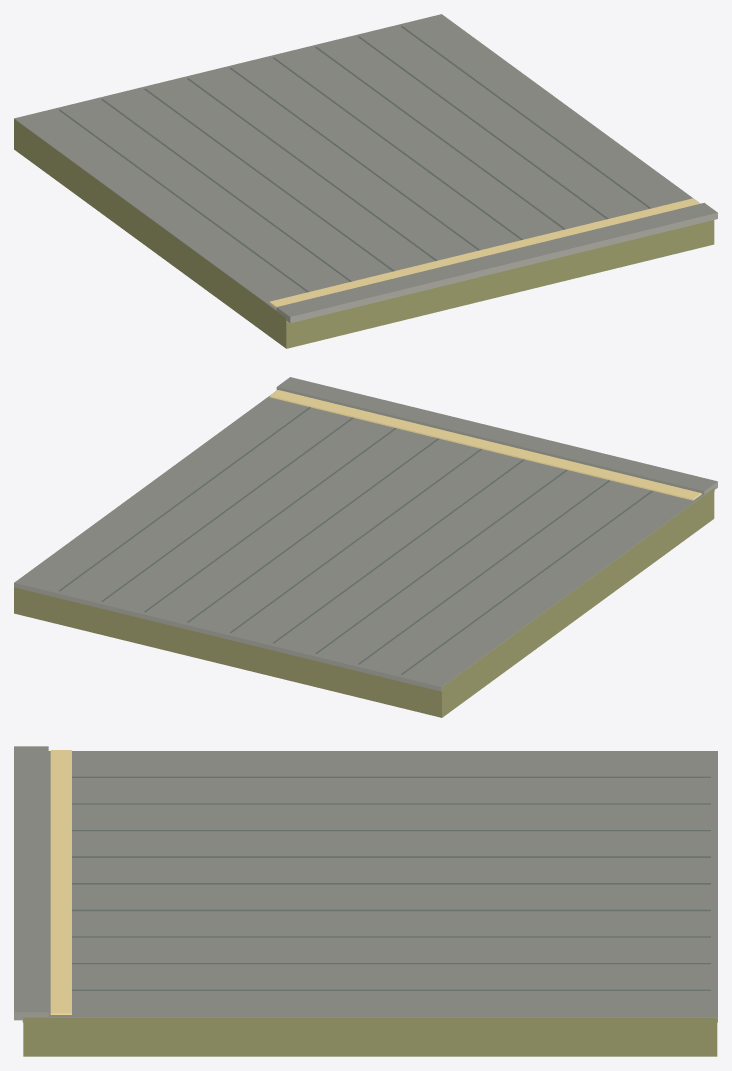
File: SM_KitAnden_F11_v4_LOD0.fbx
The picture shows the model from 3 angles, top to bottom: view 1: azimuth 30°, elevation 25°; view 2: azimuth 150°, elevation 25°; view 3: azimuth 270°, elevation 25°; orthographic projection. The views are drawn at different scales.
Parts seen in each view (by area): view 1: SM_kit_anden_v4_LOD0; view 2: SM_kit_anden_v4_LOD0; view 3: SM_kit_anden_v4_LOD0.
Part boxes in pixels (x1,y1,x2,y2): SM_kit_anden_v4_LOD0: (14,14,717,348); SM_kit_anden_v4_LOD0: (14,377,717,717); SM_kit_anden_v4_LOD0: (14,746,717,1056).
Bounding box in the file's own units: 9.98 × 0.77 × 11.16.
